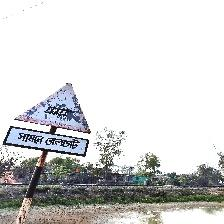Rail-crossing: (3, 83, 91, 156)
